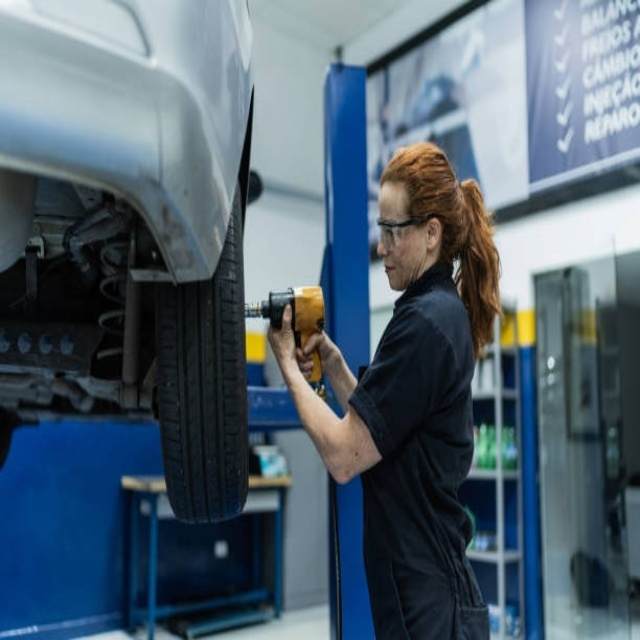Gafas: (375, 214, 435, 252)
Sin_guantes: (266, 298, 310, 372)
Sin_mascara: (382, 255, 402, 288)
